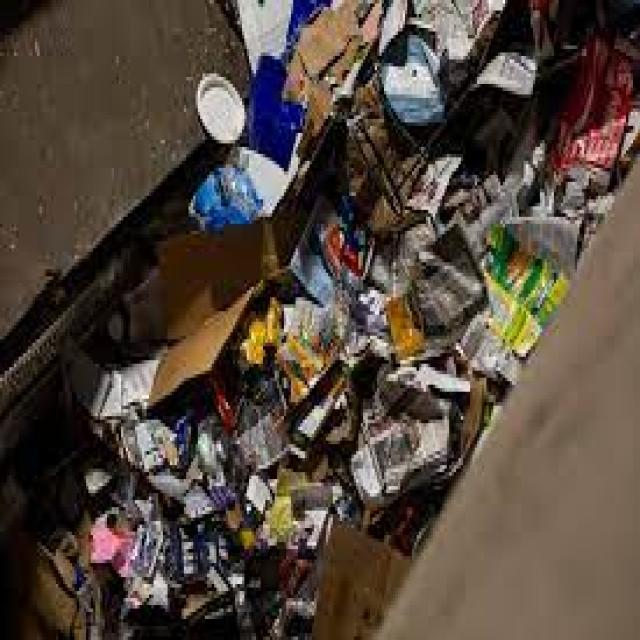cardboard: (142, 217, 296, 406), (407, 42, 563, 224), (319, 518, 414, 616), (289, 21, 356, 119)
plastic: (151, 468, 312, 636), (391, 234, 559, 340)
